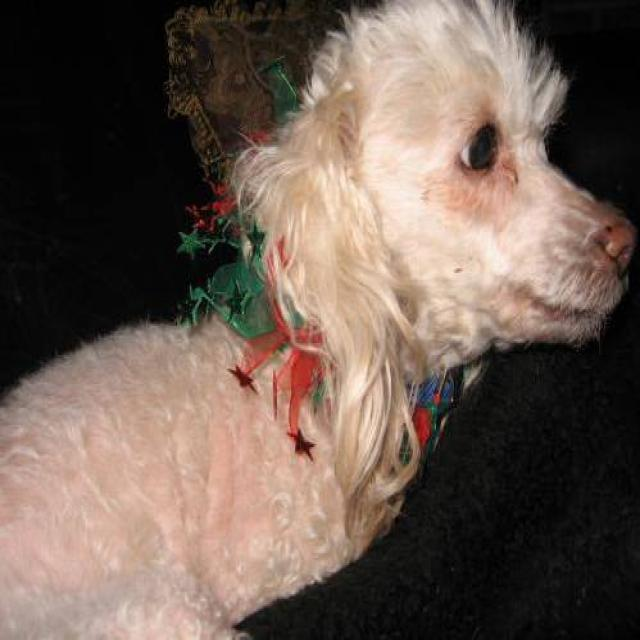Dog: (278, 0, 640, 422)
